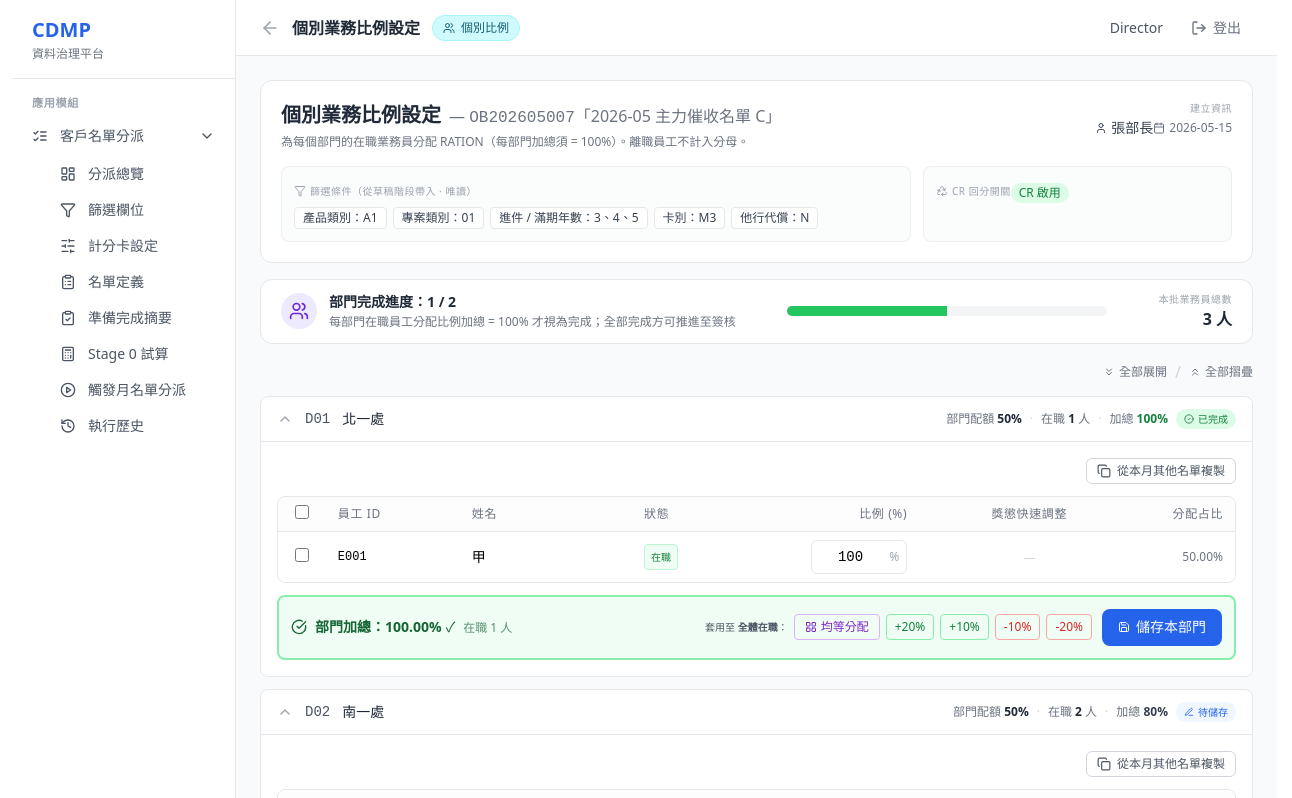
it: PersonnelRatioConfigPage — F084 v2.0 Auto-Advance（FE） › TC-F084-FE-005：部分完成（autoAdvanced:false 無 failReason）→ 只顯示既有儲存 toast
What coordinates should you click on to do the following:
click the button with test id "btn-save-dept-D01"
I would click on:
 (1162, 627)
Its box is [1102, 608, 1222, 646].
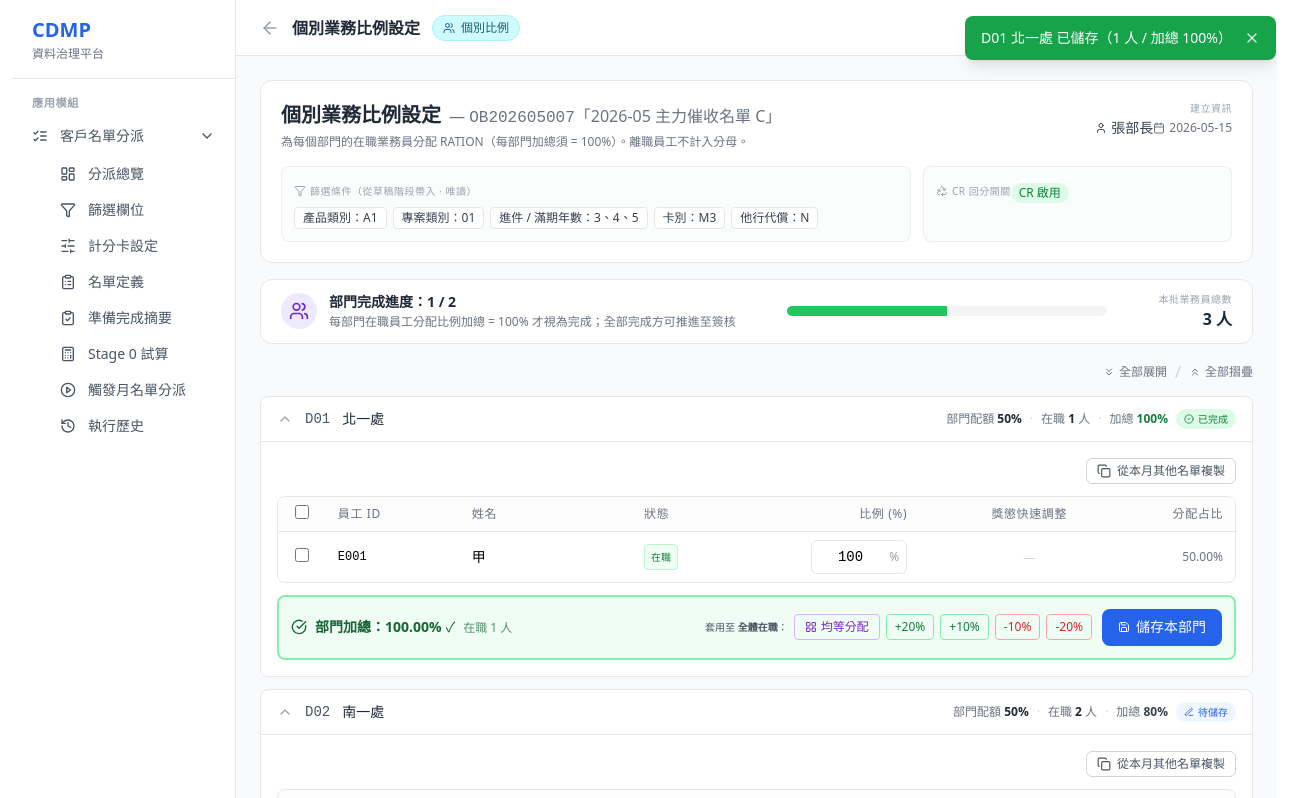
Expected: the text "D01 北一處 已儲存（1 人 / 加總 100%）" is shown, [981, 28, 1232, 48]
